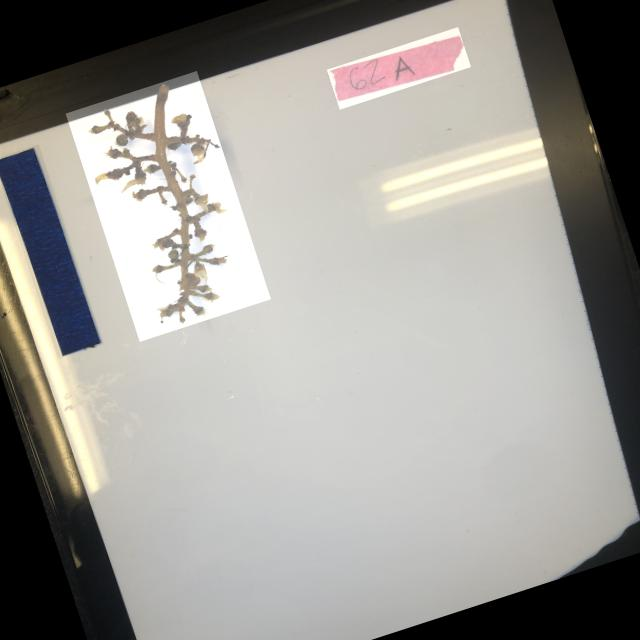index: (327, 26, 471, 110)
measure_label: (0, 144, 104, 359)
rachis_cluster: (66, 71, 271, 342)
